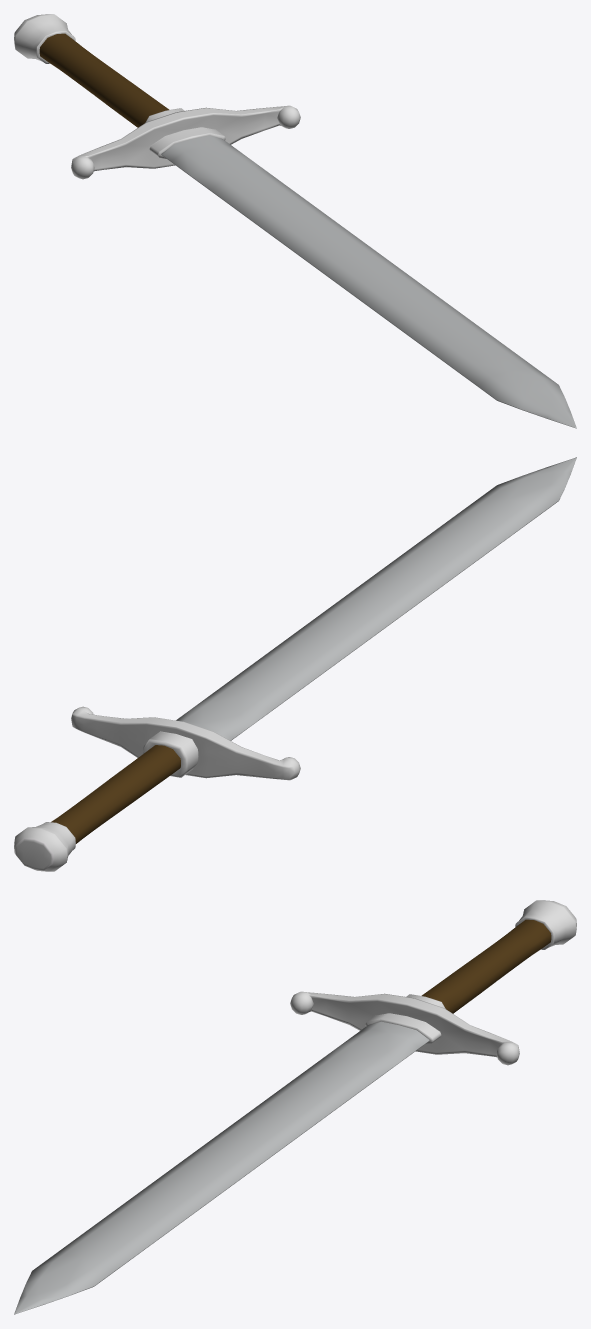
File: Trunks Sword.fbx
The picture shows the model from 3 angles, top to bottom: view 1: azimuth 30°, elevation 25°; view 2: azimuth 150°, elevation 25°; view 3: azimuth 330°, elevation 25°; orthographic projection.
Visible parts, largest first — view 1: dummy_material_0.003; view 2: dummy_material_0.003; view 3: dummy_material_0.003.
Part boxes in pixels (x1=…): dummy_material_0.003: x1=14, y1=14, x2=576, y2=428; dummy_material_0.003: x1=14, y1=457, x2=576, y2=871; dummy_material_0.003: x1=14, y1=900, x2=576, y2=1314.
Bounding box in the file's own units: 0.2865 × 0.0558 × 1.19.
